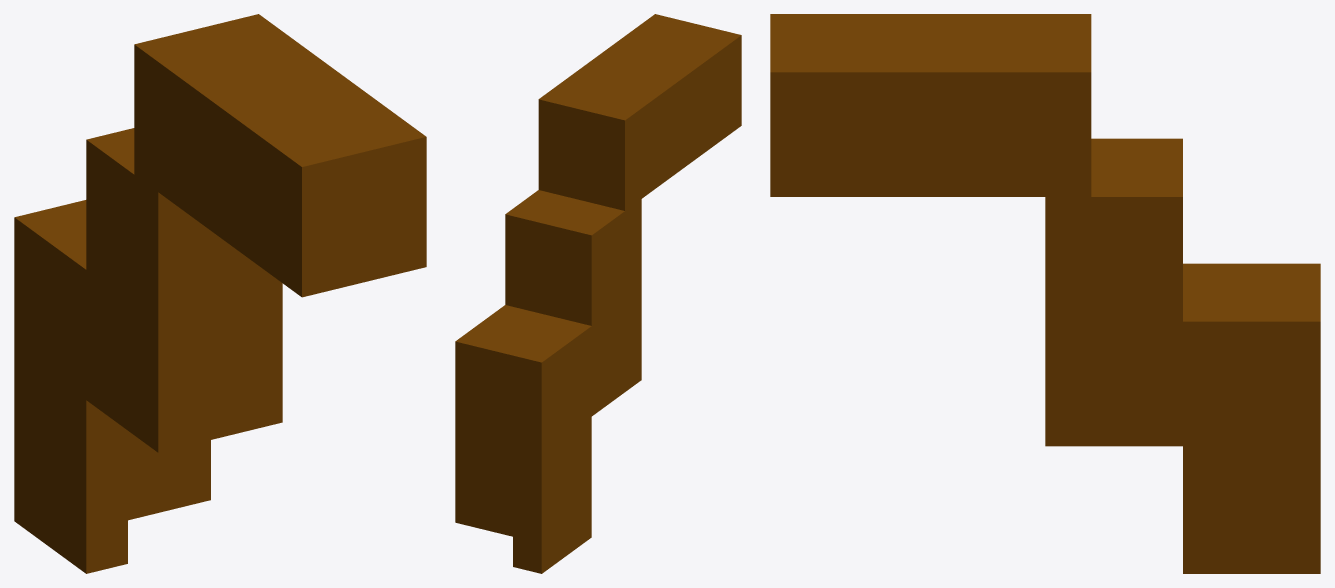
File: weepingbell-2-body.obj
3 renders of one model, left to right at view 1: azimuth 30°, elevation 25°; view 2: azimuth 150°, elevation 25°; view 3: azimuth 270°, elevation 25°, orthographic. The views are drawn at different scales.
Parts seen in each view (by area): view 1: body; view 2: body; view 3: body.
Boxes of the visible parts, x1,y1,x2,y2 form: body: [14, 14, 426, 573]; body: [455, 14, 741, 573]; body: [770, 14, 1320, 573].
Size of the model in its own units: 0.3 by 1.3 by 1.2.
